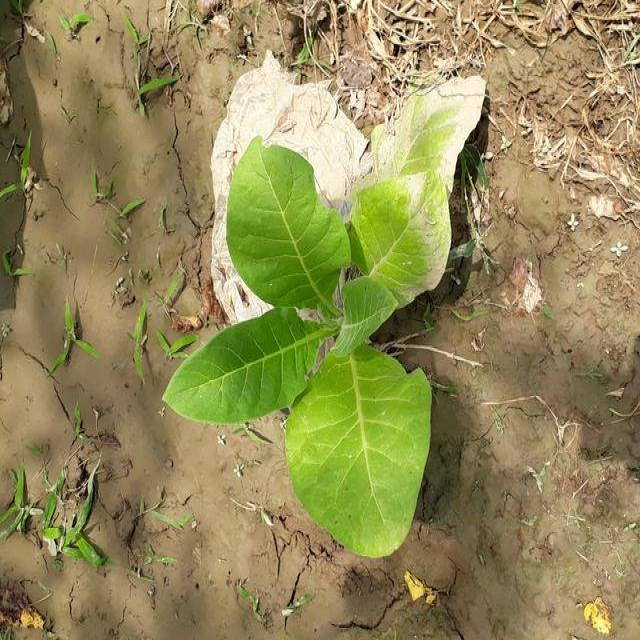crop: (171, 75, 480, 556)
